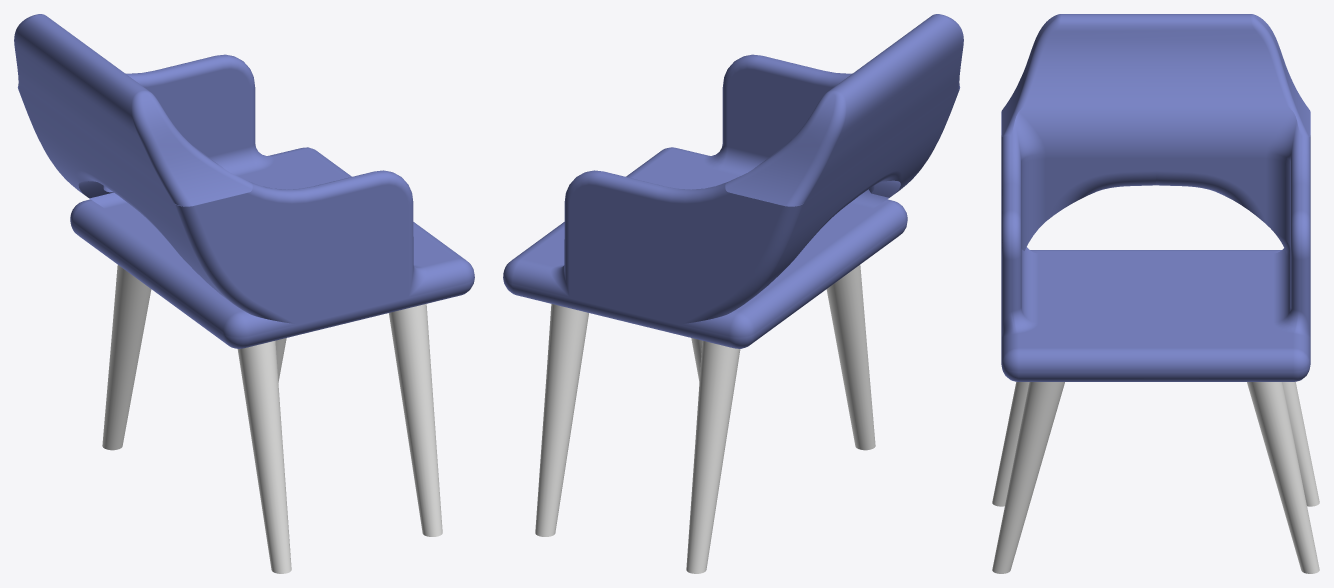
Rendered from Cadeira.glb.
3 renders of one model, left to right at view 1: azimuth 30°, elevation 25°; view 2: azimuth 150°, elevation 25°; view 3: azimuth 270°, elevation 25°, orthographic. The views are drawn at different scales.
Parts seen in each view (by area): view 1: Corpo1; view 2: Corpo1; view 3: Corpo1.
Part boxes in pixels (bbox=[...]): Corpo1: bbox=[14, 14, 474, 573]; Corpo1: bbox=[503, 14, 963, 573]; Corpo1: bbox=[992, 14, 1319, 573].
Bounding box in the file's own units: 0.5506 × 0.7847 × 0.5297.
